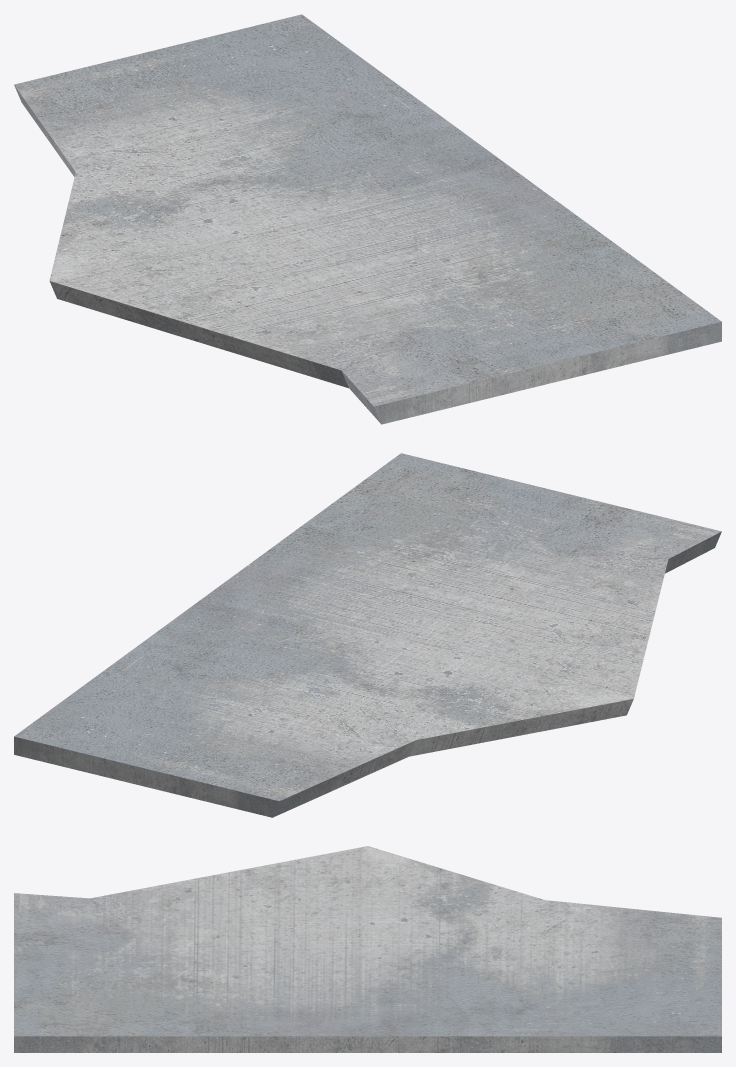
Rendered from Ceiling Tile_Broken_2.FBX.
3 views of the same model, one above another, from view 1: azimuth 30°, elevation 25°; view 2: azimuth 150°, elevation 25°; view 3: azimuth 270°, elevation 25° (orthographic). The views are drawn at different scales.
Visible parts, largest first — view 1: Ceiling Tile_Broken_2; view 2: Ceiling Tile_Broken_2; view 3: Ceiling Tile_Broken_2.
Boxes of the visible parts, x1,y1,x2,y2 form: Ceiling Tile_Broken_2: (14,14,721,424); Ceiling Tile_Broken_2: (14,453,721,817); Ceiling Tile_Broken_2: (14,846,721,1052).
Bounding box in the file's own units: 0.4399 × 0.018 × 0.6918.
